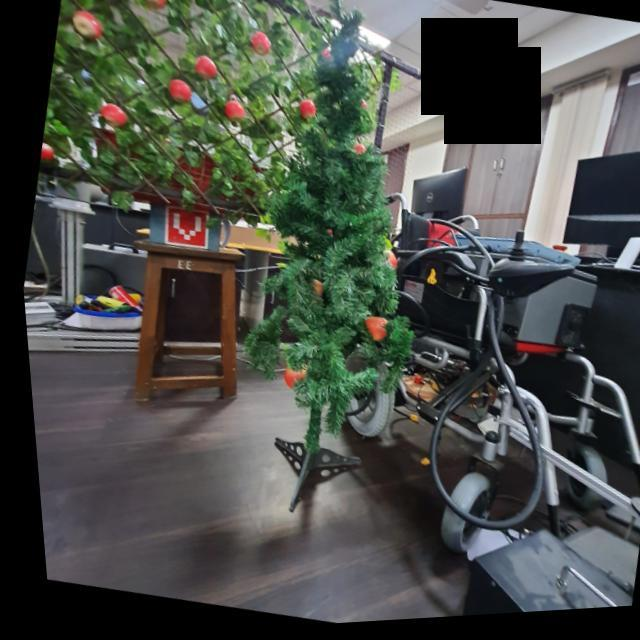Tree: (190, 7, 455, 519)
